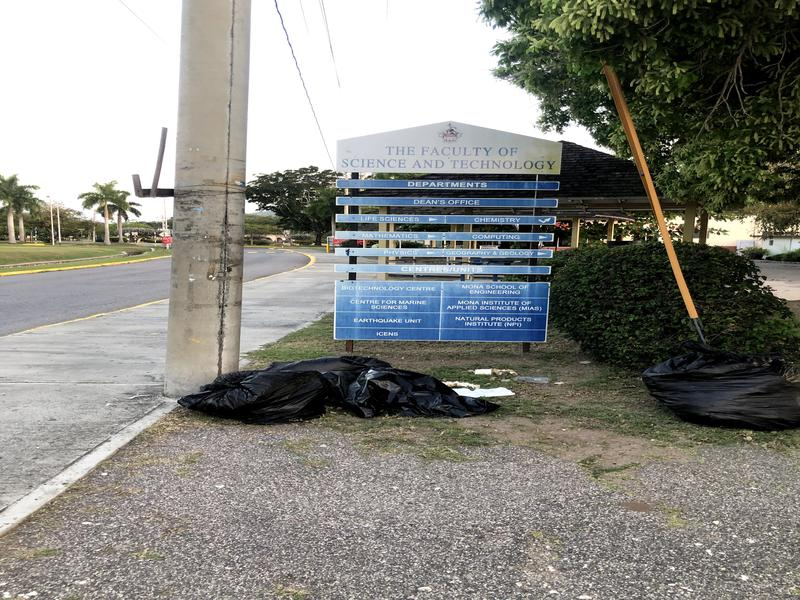18.0055634_-76.7484079_scitechsign: (320, 100, 575, 360)
